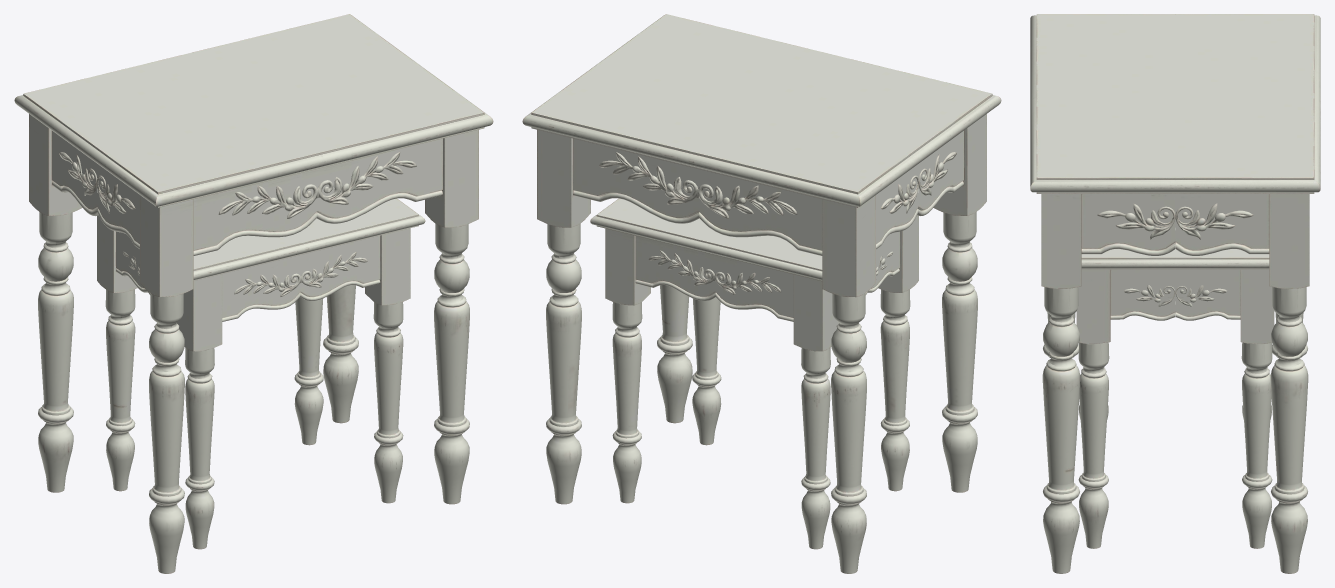
File: example175.gltf
3 renders of one model, left to right at view 1: azimuth 30°, elevation 25°; view 2: azimuth 150°, elevation 25°; view 3: azimuth 270°, elevation 25°, orthographic. The views are drawn at different scales.
Bounding box in the file's own units: 54.5 × 60.4 × 39.5.
Materials: 2 (1 with a texture image).
